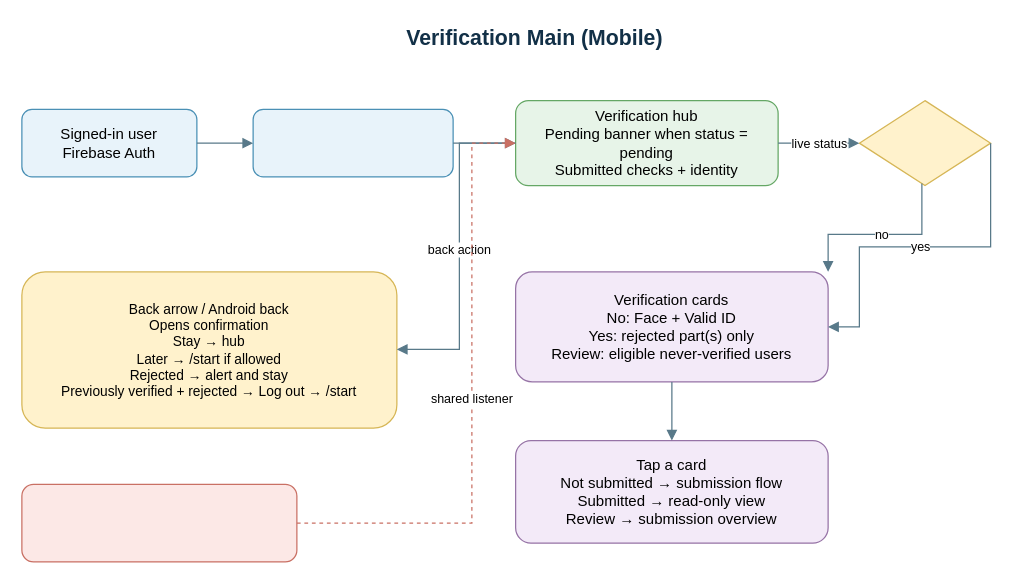
The diagram is 1023 pixels wide and 584 high, and some of its shapes have lost their labels. The centre of each missing label's shape, as x and y in pixels:
Admin decision watcher handles approval / rejection and navigation: the point at 159,522
Live profile regular_user snapshot: the point at 352,142
Rejected?: the point at 924,142
